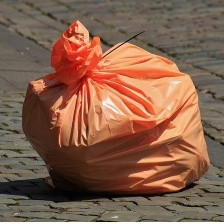plastic_bag: (12, 15, 211, 210)
